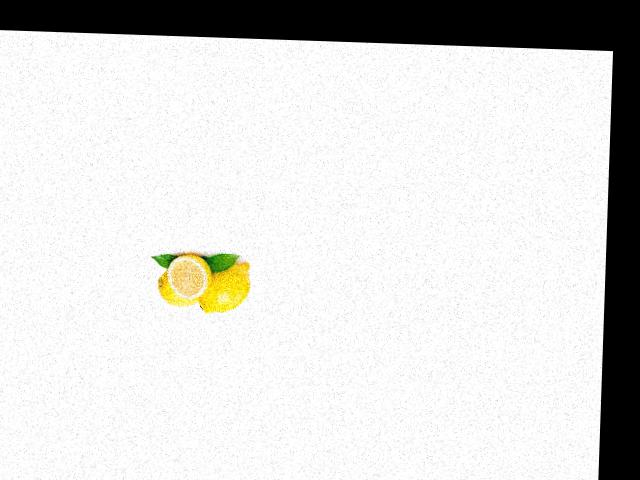lemon: (168, 249, 212, 299)
